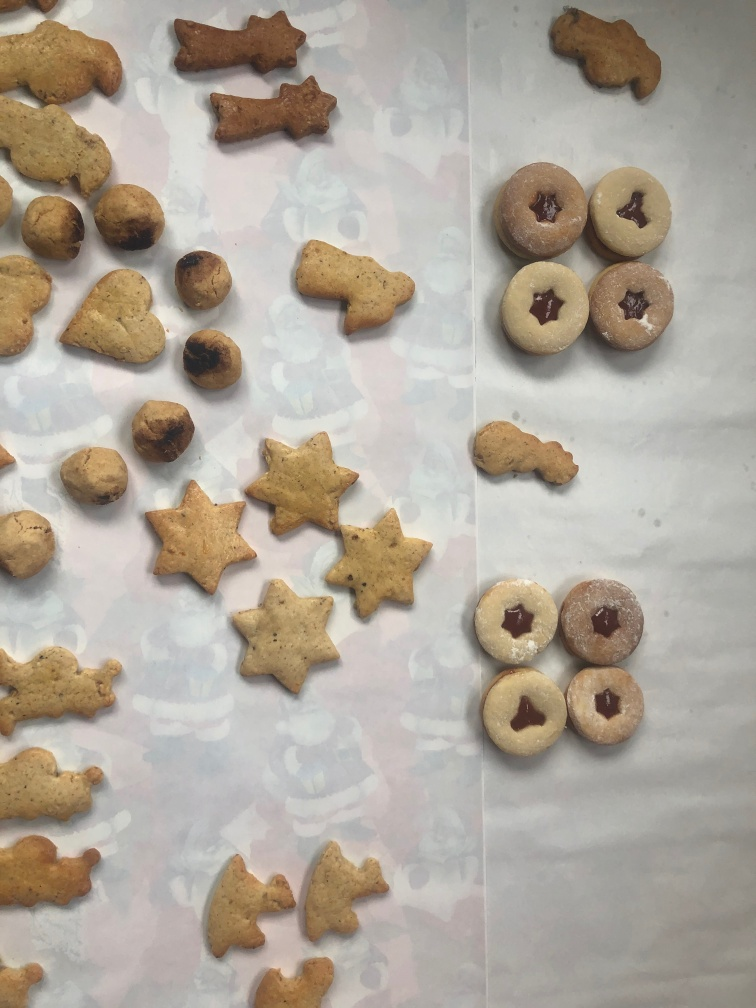angel: (284, 233, 421, 342)
christmas shortbread with jam: (494, 162, 594, 267), (496, 258, 592, 360), (478, 672, 570, 766), (469, 575, 555, 675), (590, 262, 676, 361), (592, 165, 674, 262), (565, 658, 648, 751), (563, 578, 639, 674)
heart: (55, 267, 173, 379), (3, 250, 55, 366)
lamb: (195, 845, 299, 964), (294, 834, 394, 956), (244, 951, 335, 1008)
santa claus: (1, 636, 131, 744), (3, 17, 134, 110), (547, 7, 666, 106), (1, 98, 115, 199), (1, 742, 112, 833), (2, 833, 109, 922)
shooting star: (204, 70, 340, 159), (166, 5, 312, 85)
snowball: (176, 324, 249, 399), (58, 442, 135, 512), (95, 183, 165, 255), (129, 395, 194, 464), (173, 243, 234, 316), (26, 194, 82, 266), (2, 508, 53, 586)
snowman: (463, 415, 592, 496)
star: (225, 575, 341, 706), (141, 477, 265, 590), (240, 432, 358, 546), (322, 508, 433, 623)
